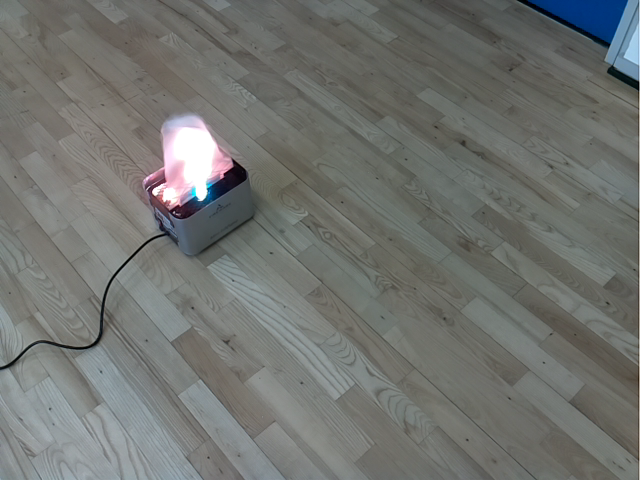fire: (160, 114, 232, 210)
